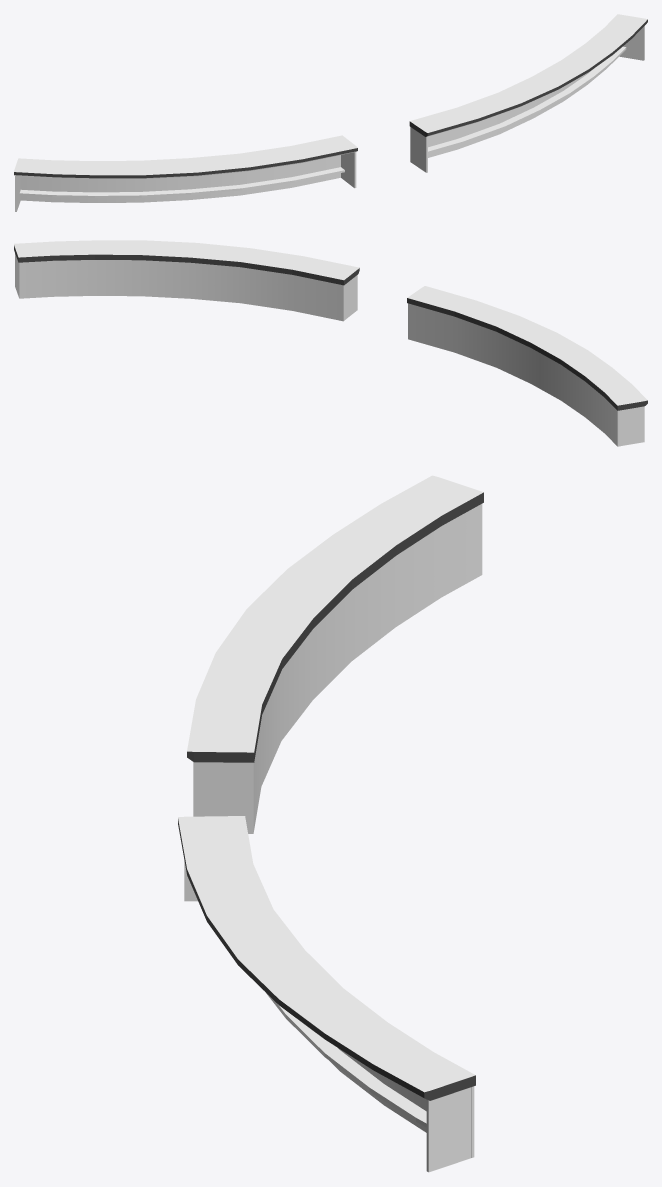
File: studentdesk1.fbx
The picture shows the model from 3 angles, top to bottom: view 1: azimuth 30°, elevation 25°; view 2: azimuth 150°, elevation 25°; view 3: azimuth 270°, elevation 25°; orthographic projection. The views are drawn at different scales.
Parts seen in each view (by area): view 1: studentdesk1; view 2: studentdesk1; view 3: studentdesk1.
Part boxes in pixels (<box>): studentdesk1: <box>14,14,647,211</box>; studentdesk1: <box>14,240,647,446</box>; studentdesk1: <box>178,475,483,1172</box>.
Size of the model in its own units: 1575 by 97.87 by 330.
1 material, 1 textured.
